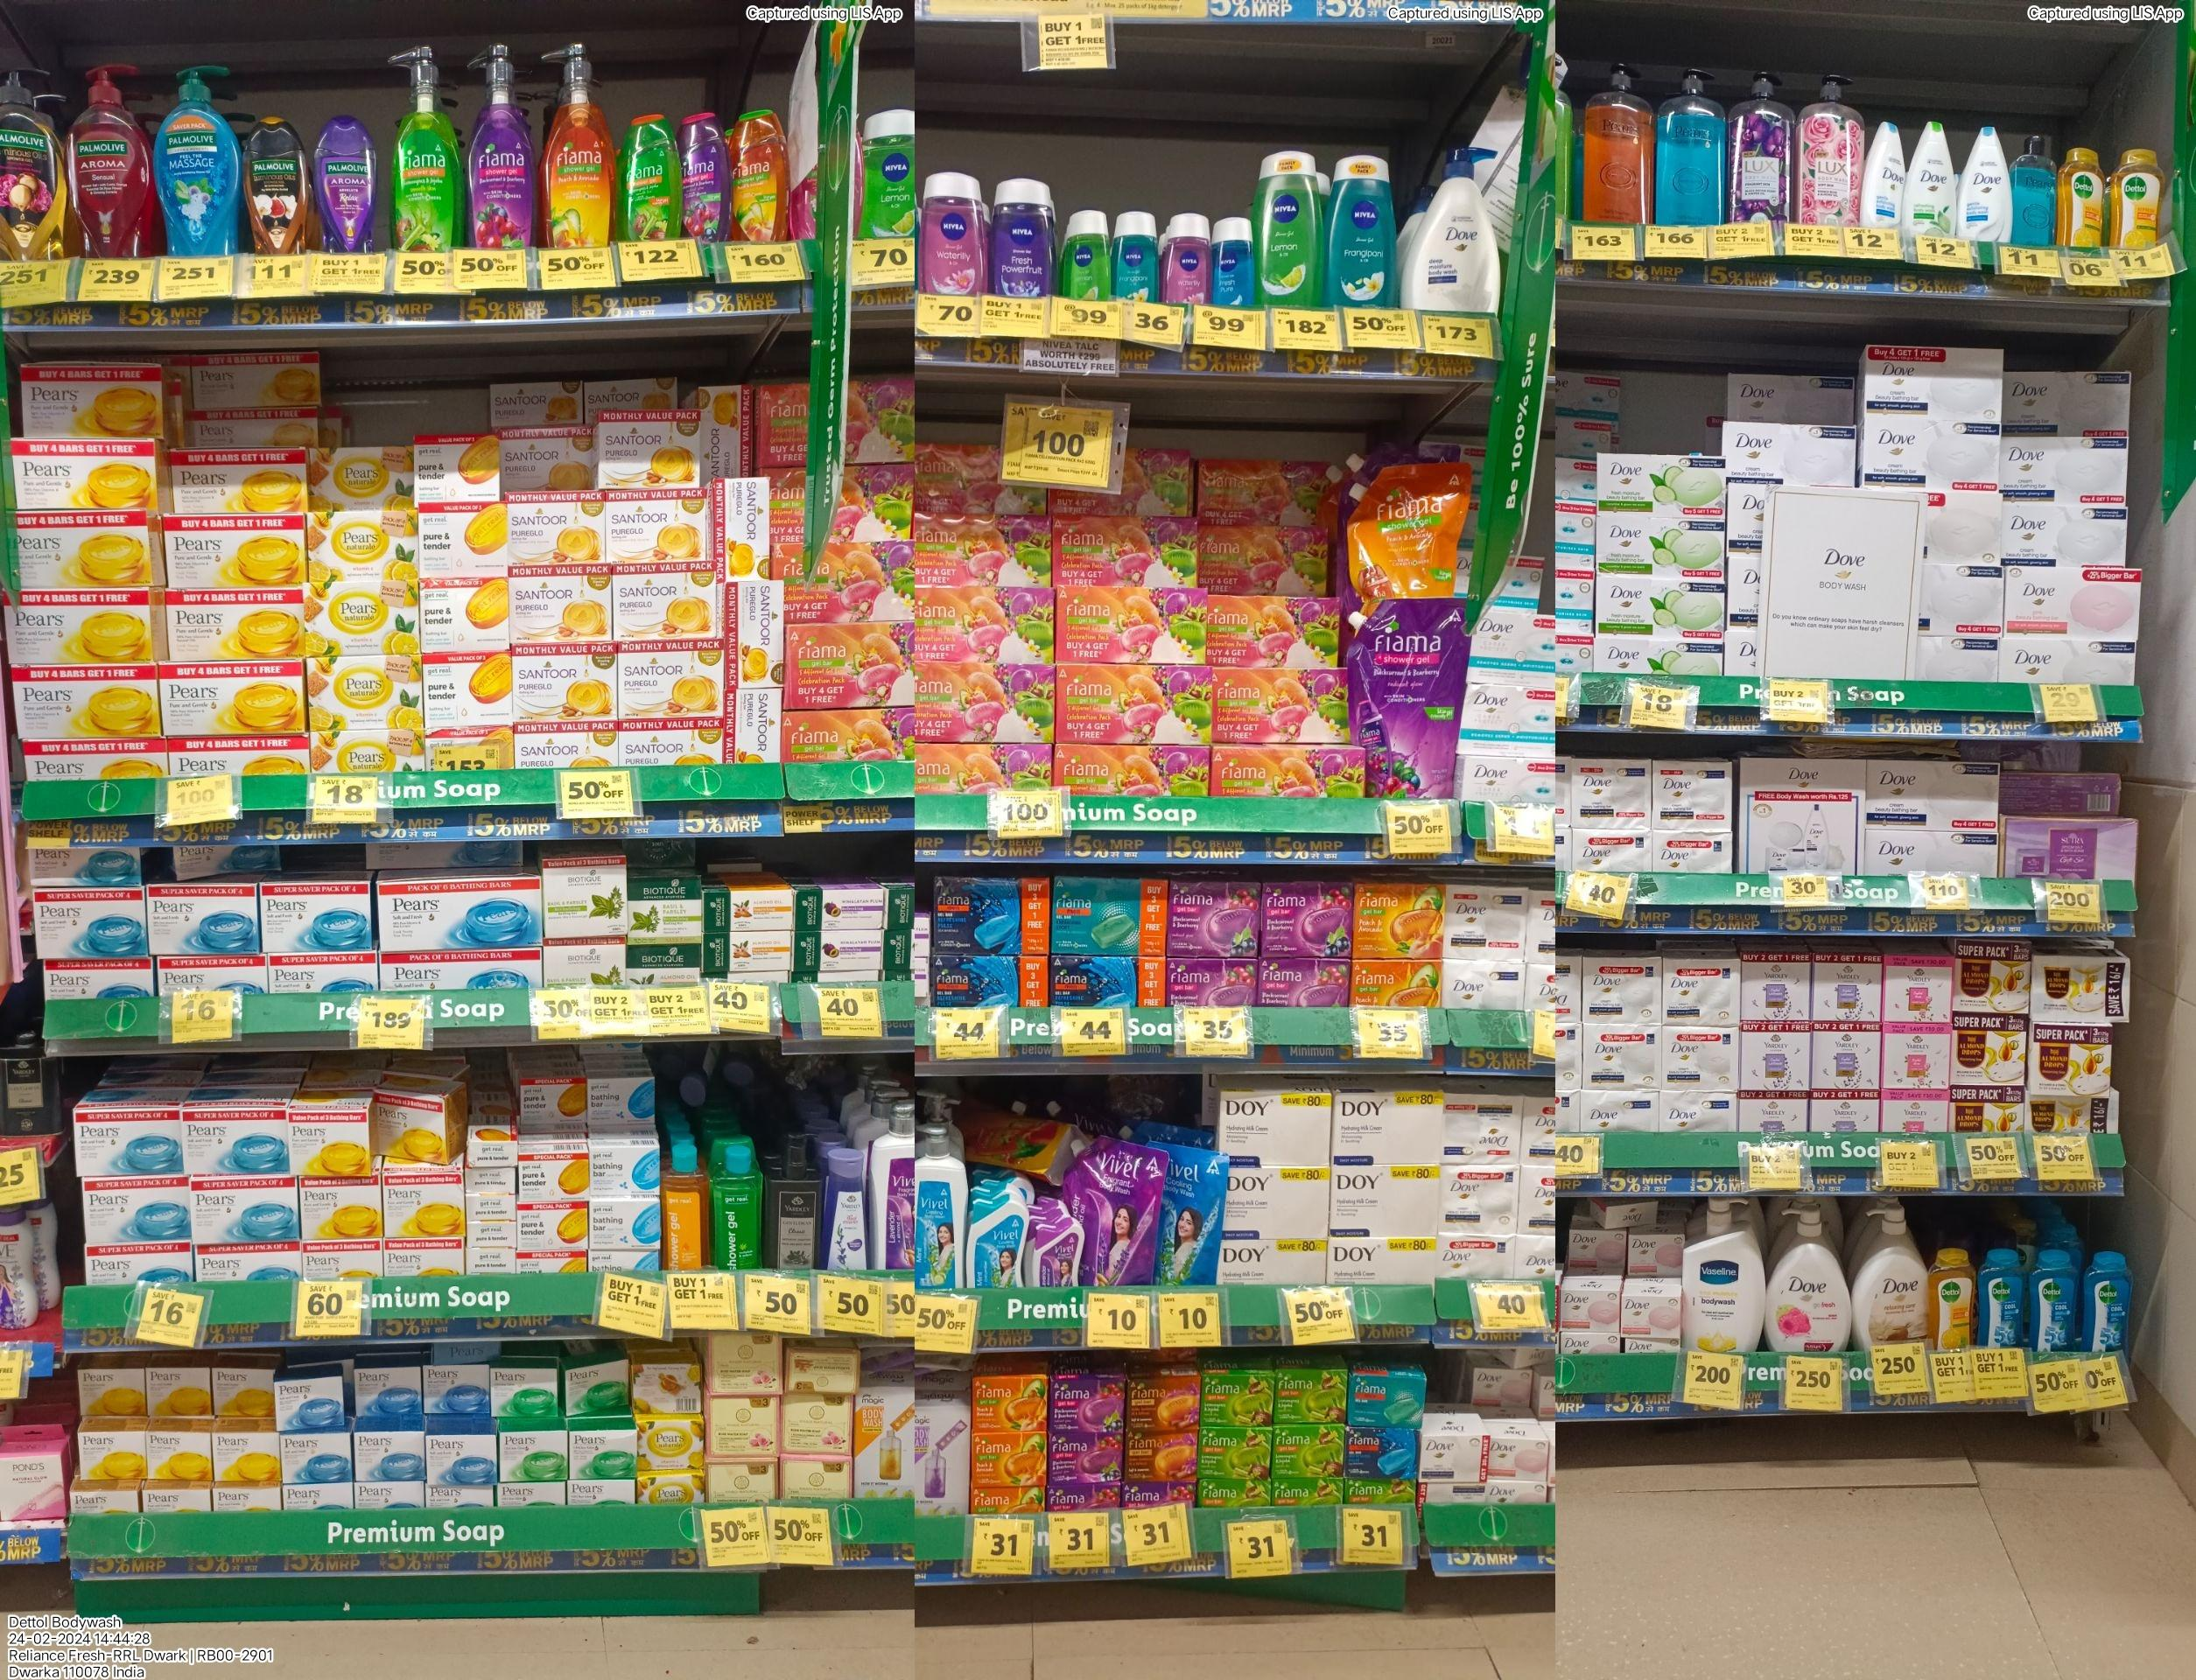Dettol_Bodywash_Cool: (2081, 1251, 2129, 1350), (2032, 1255, 2078, 1352), (1979, 1253, 2027, 1345)
Dettol_Bodywash_Refresh: (1926, 1241, 1974, 1352), (2111, 148, 2159, 247), (2062, 141, 2104, 247)
Dove_Deep_Moisture_Body_Wash_250ML: (1864, 120, 1905, 224)
Dove_Gentle_Exfoliating_Body_Wash_250ML: (1963, 120, 2009, 242)
Dove_Refreshing_Body_Wash_250ML: (1908, 122, 1956, 238)
Fiama_Shower_Gel_Lemongrass_and_Jojoba_250ML: (618, 116, 681, 242)
Fiama_Shower_Gel_Peach_and_Avocado_250ML: (734, 108, 787, 242)
Nivea_Shower_Gel_Frangipani_and_Oil_250ML: (1326, 155, 1395, 302)
Nivea_Shower_Gel_Fresh_Powerfruit_250ML: (992, 173, 1054, 296)
Nivea_Shower_Gel_Lemon_and_Oil_250ML: (1255, 150, 1322, 305), (863, 108, 913, 236)
Nivea_Shower_Gel_Waterlily_and_Oil_250ML: (923, 171, 983, 295)
Palmolive_Aroma_Relax_250ML: (314, 118, 376, 249)
Palmolive_Luminous_Oils_With_White_Orchid_Shower_Gel_250ML: (242, 116, 309, 244)
Pears_Pure_Glycerin_and_Mint_Extracts_Body_Wash_250ML: (2016, 136, 2057, 247)
